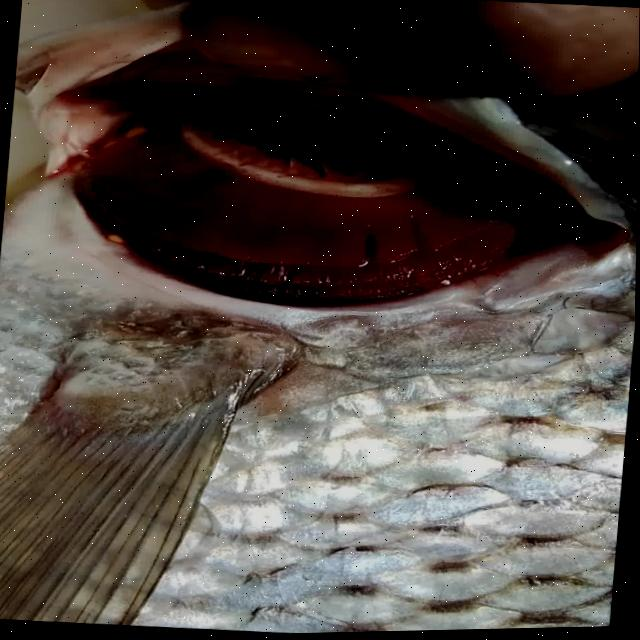Fresh: (22, 92, 634, 345)
